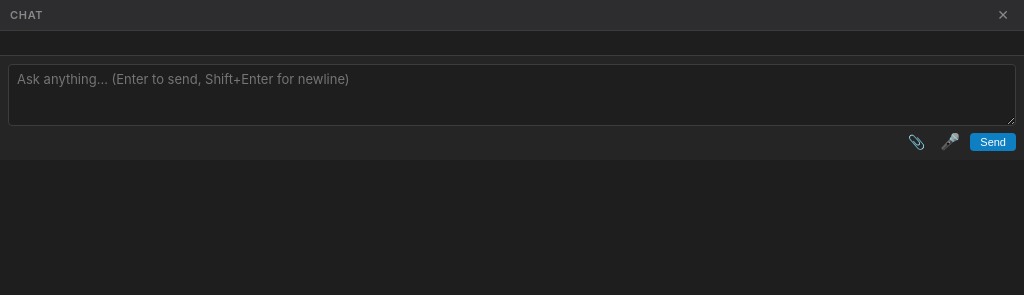
ChatPanel › streams tokens and renders them in order
In the text box with placeholder "Ask anything… (Enter to send, Shift+Enter for newline)": (512, 95) left=8, top=64, right=1016, bottom=126, type "hi"
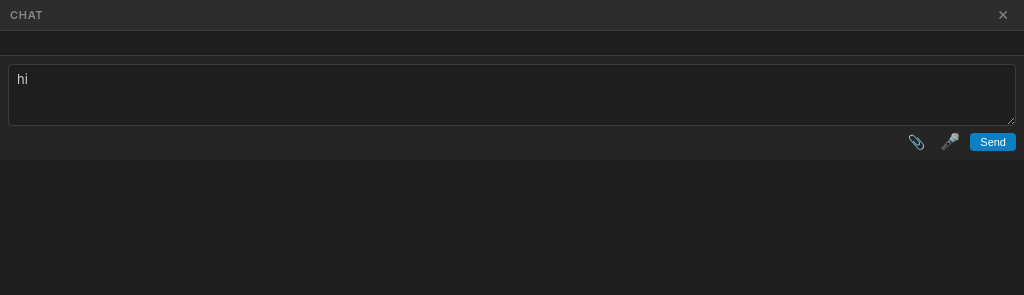
Click the button "Send": (993, 142) left=970, top=133, right=1016, bottom=151
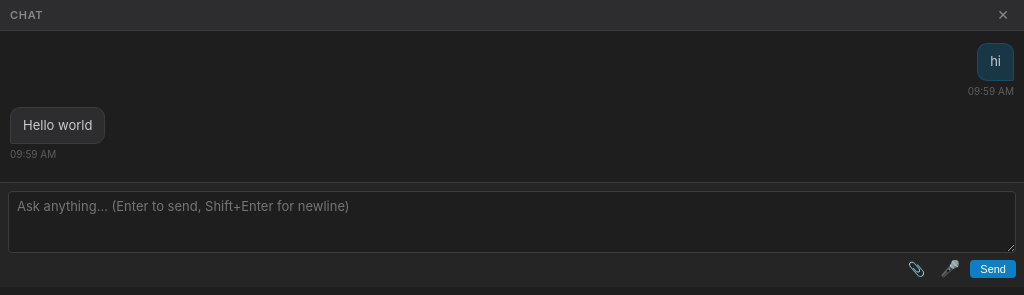
expect the text "Hello world" is shown: met, box left=23, top=116, right=92, bottom=132
